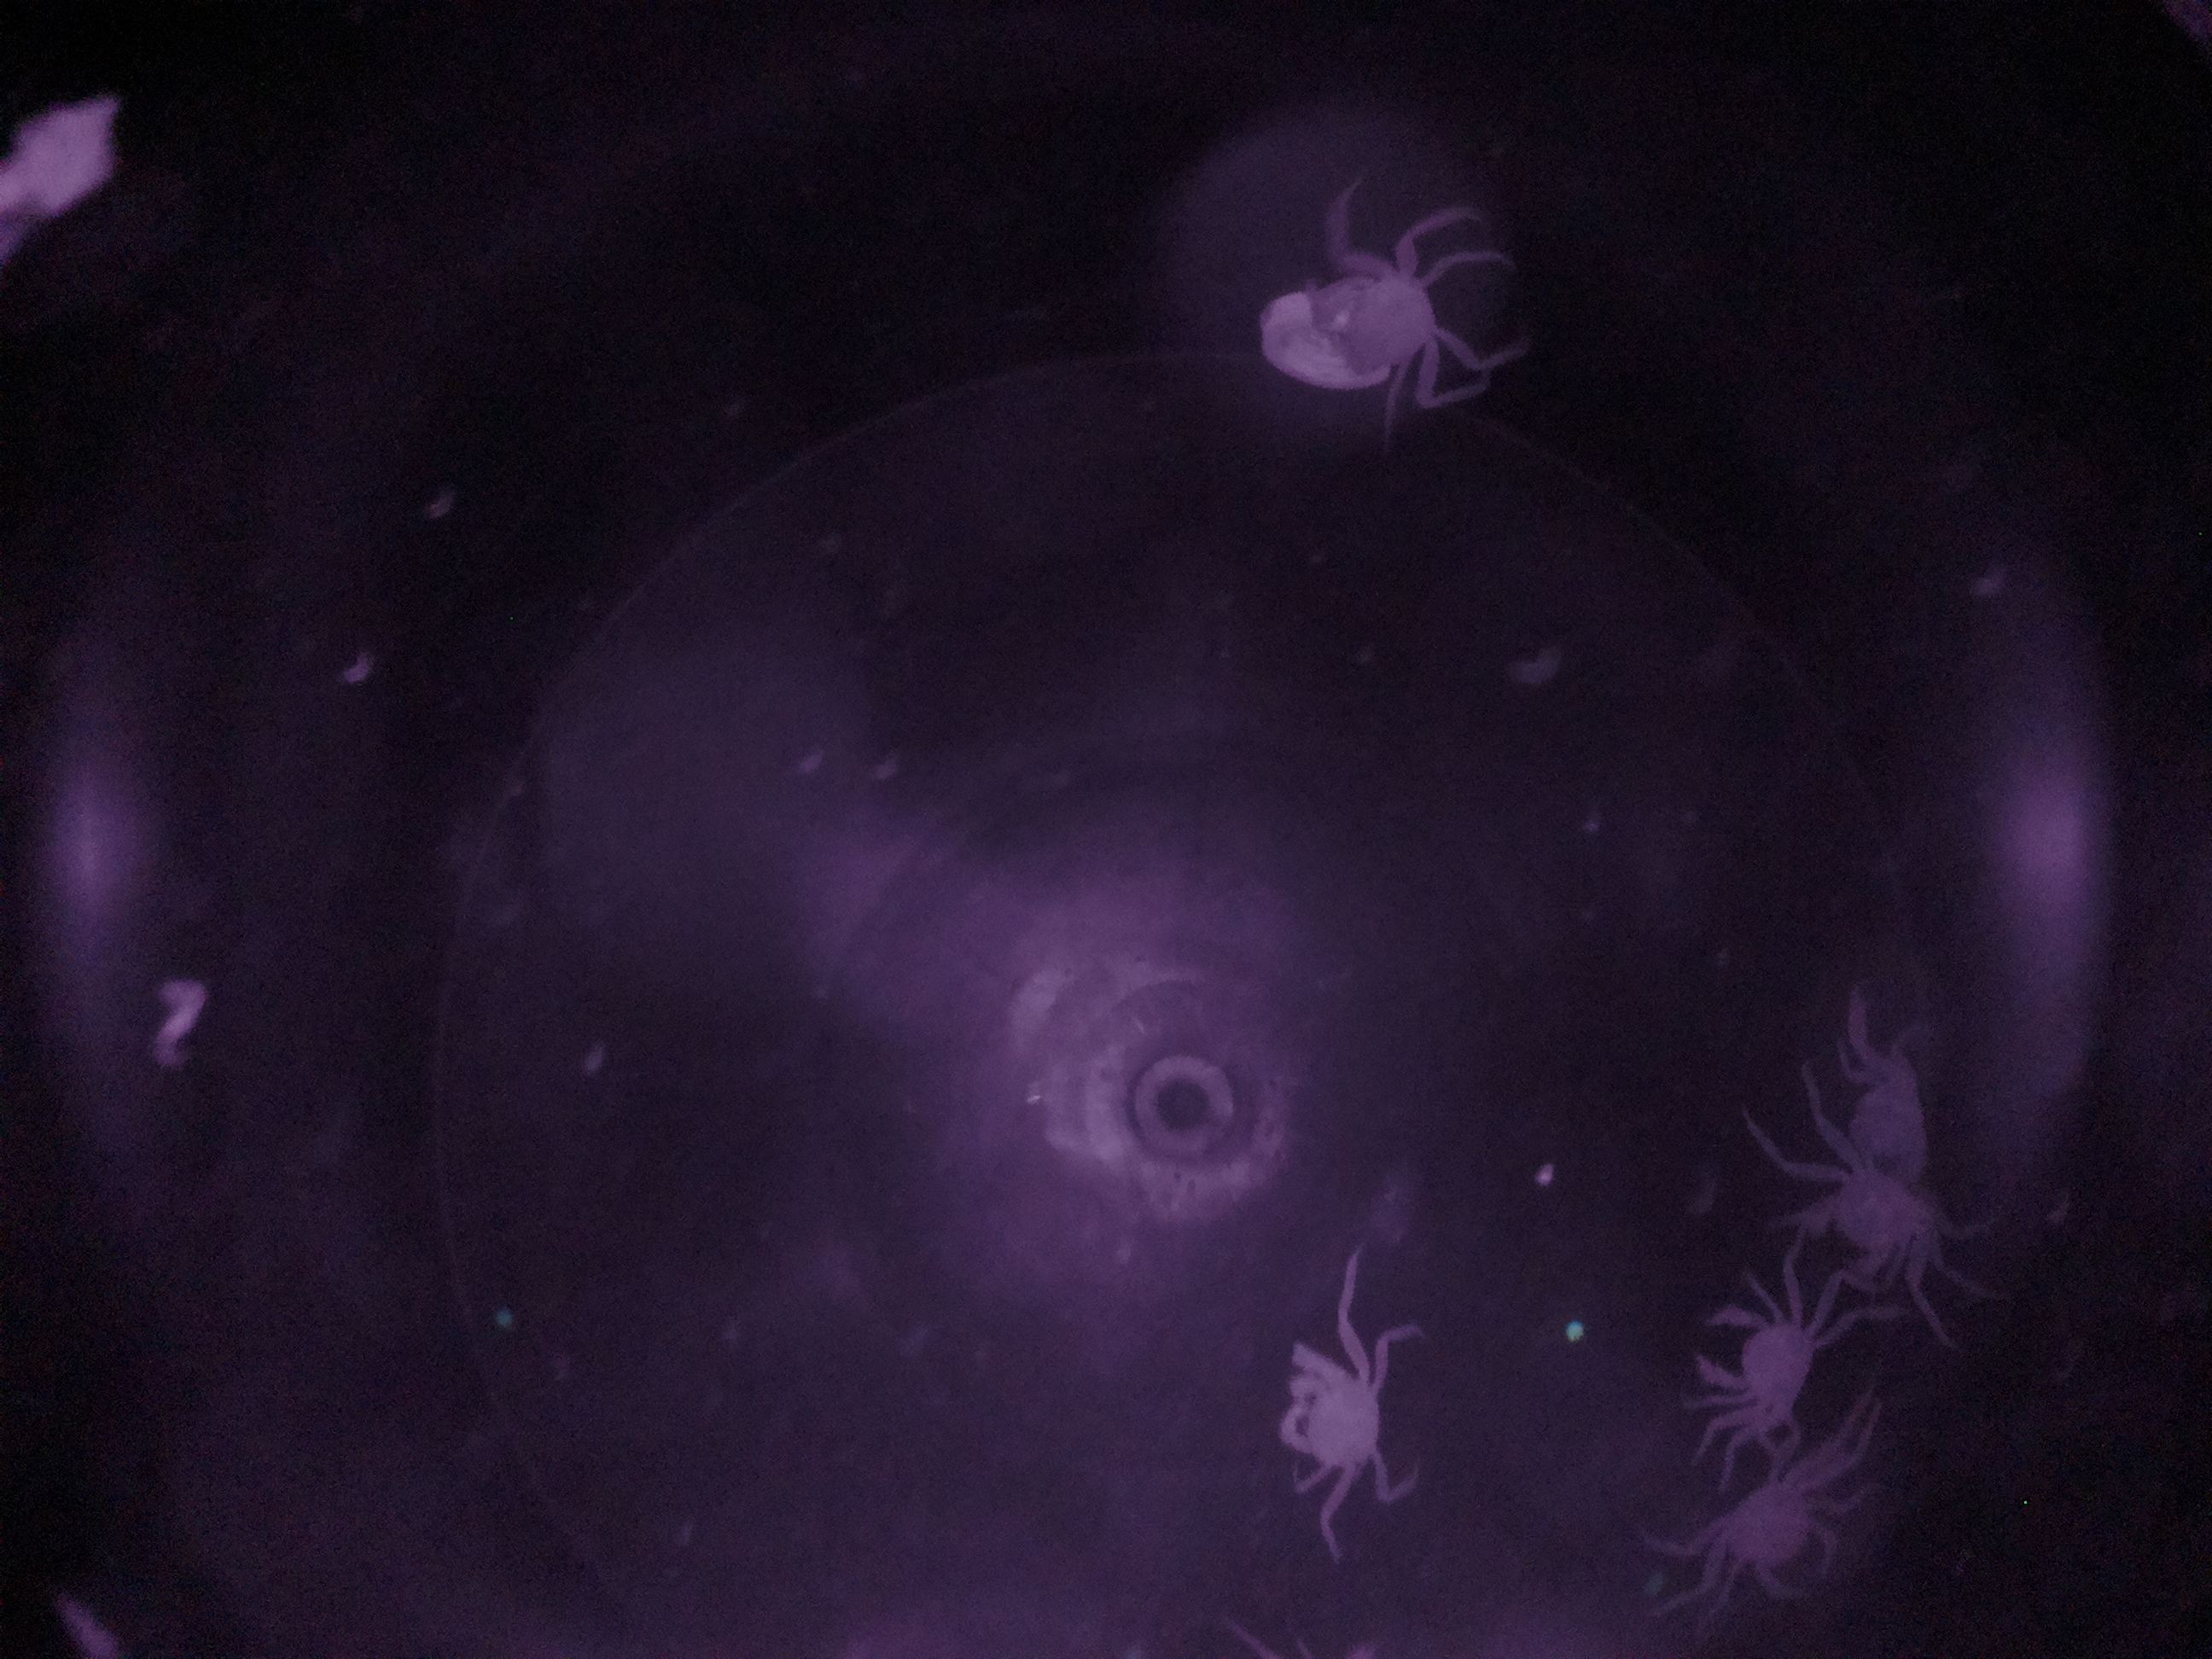Crab: (1689, 1441, 1848, 1624), (1683, 1286, 1836, 1439), (1271, 1328, 1390, 1502)
